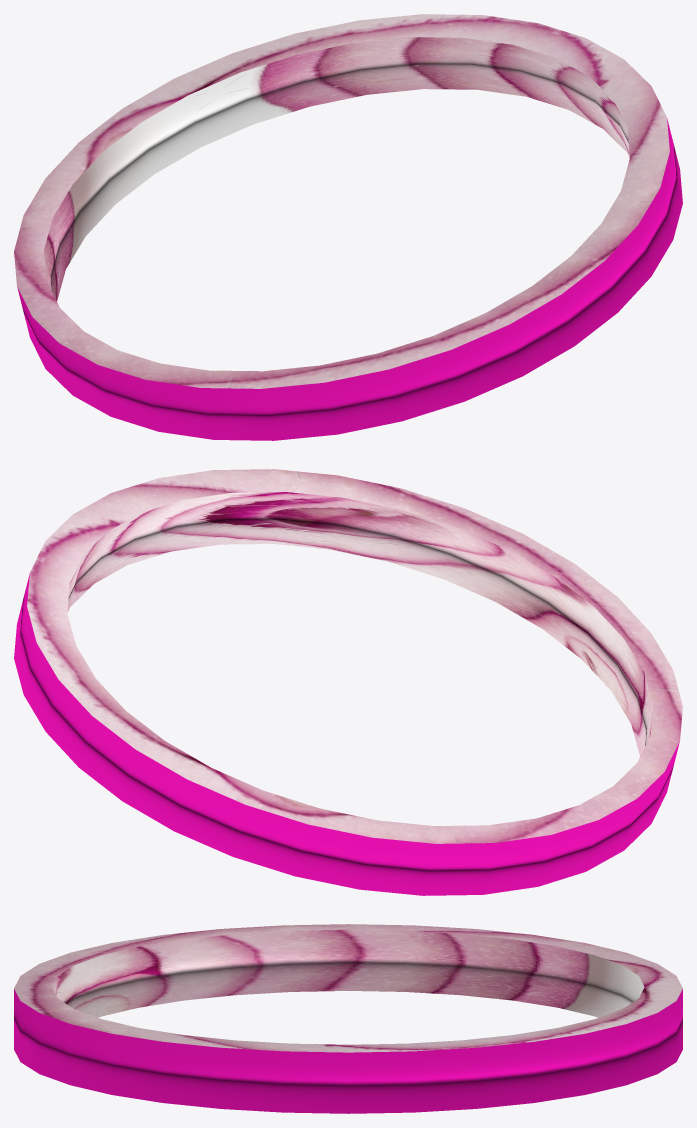
File: onion_ring_model.glb
The picture shows the model from 3 angles, top to bottom: view 1: azimuth 30°, elevation 25°; view 2: azimuth 150°, elevation 25°; view 3: azimuth 270°, elevation 25°; orthographic projection.
Visible parts, largest first — view 1: Cylinder; view 2: Cylinder; view 3: Cylinder.
Part boxes in pixels (left/top/right/bottom): Cylinder: left=14, top=14, right=682, bottom=440; Cylinder: left=14, top=469, right=682, bottom=895; Cylinder: left=14, top=924, right=682, bottom=1113.
Bounding box in the file's own units: 2.28 × 0.7616 × 2.3.
2 materials, 1 textured.
